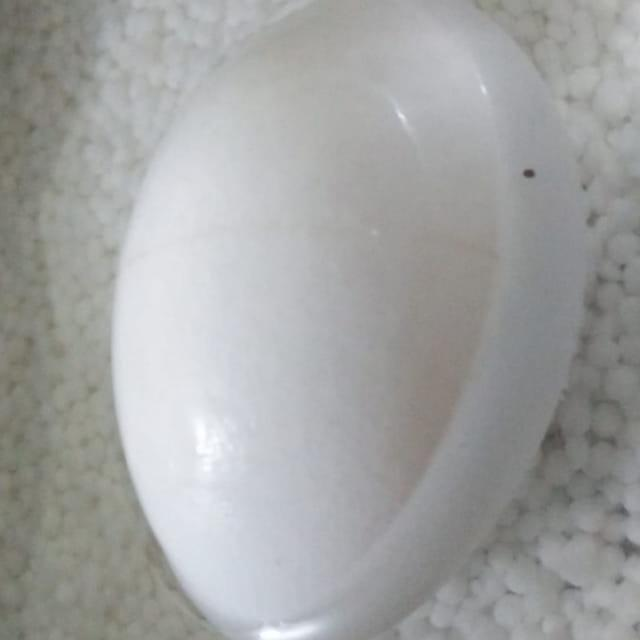egg: (106, 0, 593, 640)
